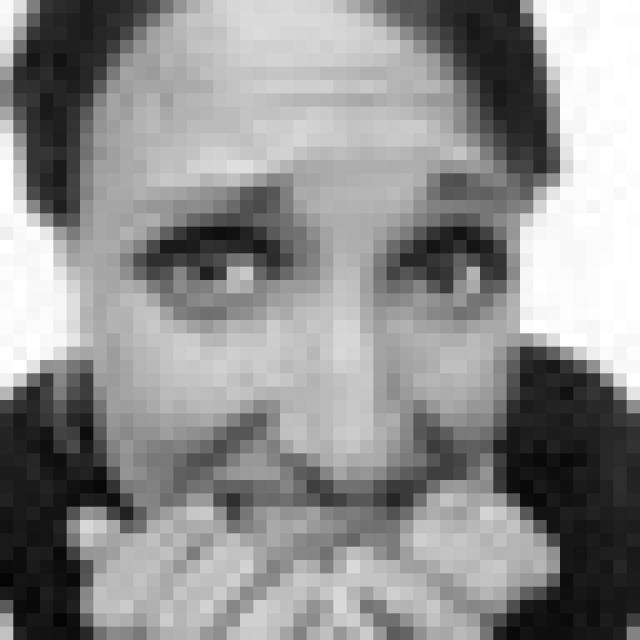fear: (113, 158, 507, 576)
